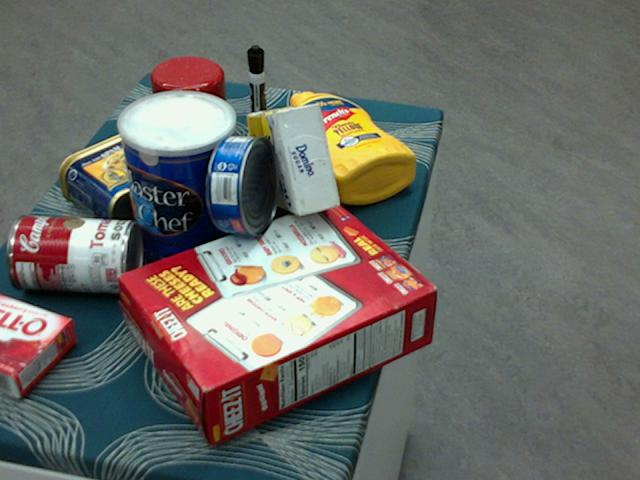cracker_box: (118, 198, 437, 444)
gelatin_box: (0, 293, 77, 398)
large_marker: (246, 45, 266, 149)
master_chef_can: (117, 92, 240, 278)
mug: (149, 57, 232, 157)
mustard_bottle: (285, 91, 415, 204)
potted_meat_can: (58, 131, 189, 232)
sugar_box: (243, 105, 339, 216)
tomato_soup_can: (6, 211, 141, 294)
tuna_fish_can: (205, 134, 278, 234)
